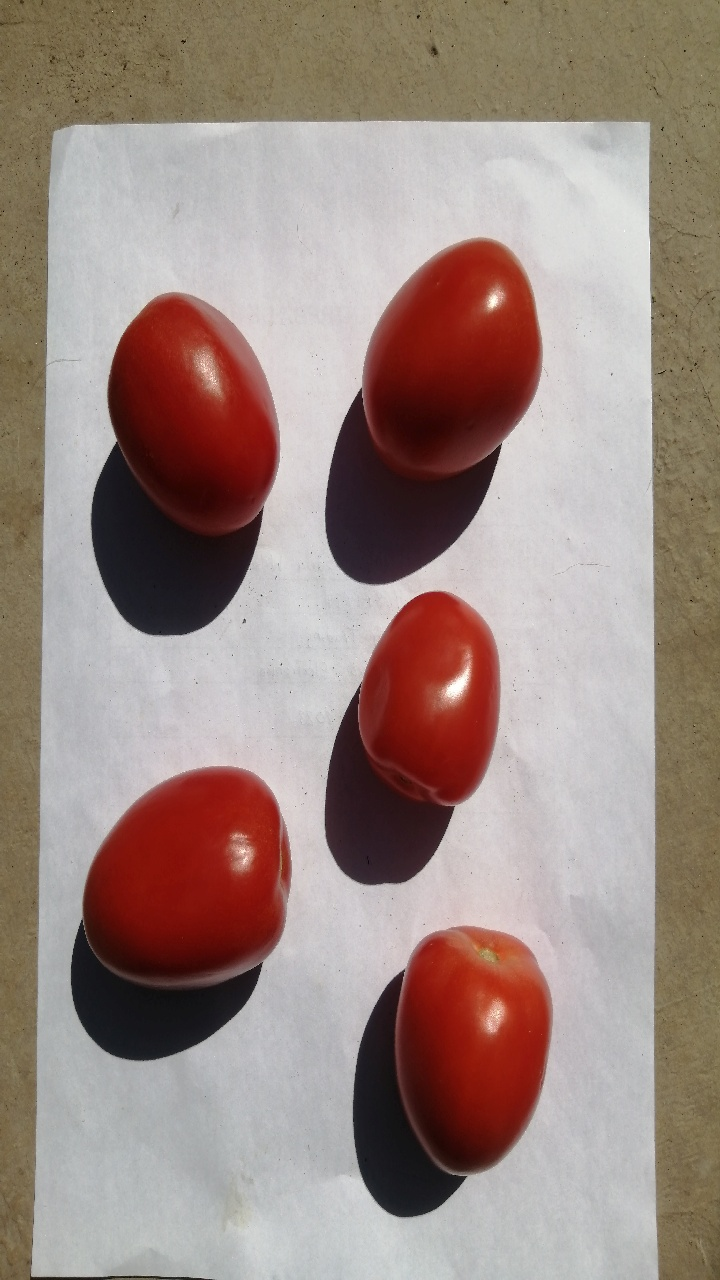tomateRojo: (63, 748, 308, 1023), (84, 260, 300, 571), (361, 897, 574, 1195), (343, 208, 563, 495), (329, 579, 524, 812)
